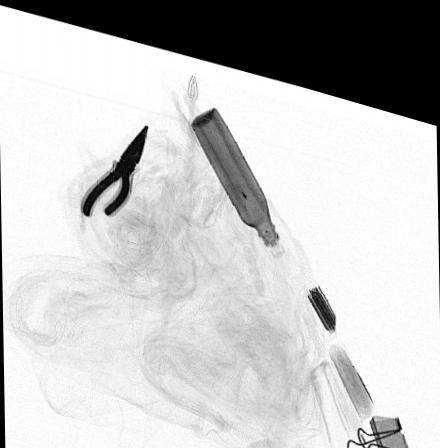Pliers: (77, 112, 151, 212)
